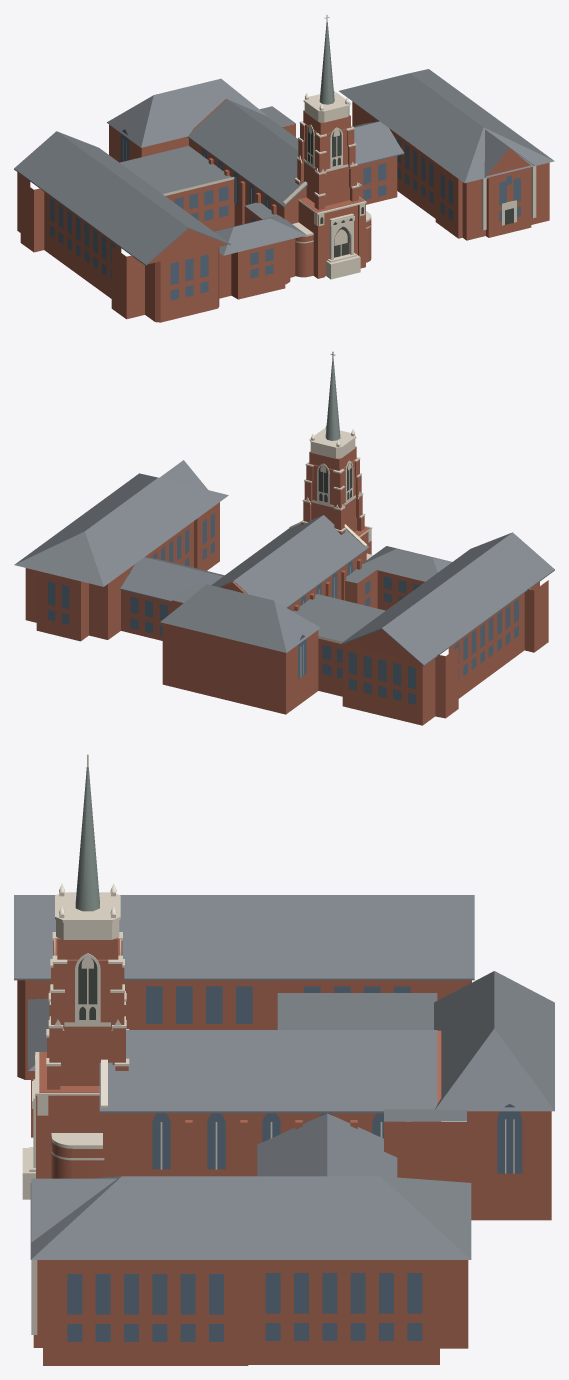
The model's file is ral-edenton-street-umc.glb.
3 views of the same model, one above another, from view 1: azimuth 30°, elevation 25°; view 2: azimuth 150°, elevation 25°; view 3: azimuth 270°, elevation 25° (orthographic). The views are drawn at different scales.
Parts seen in each view (by area): view 1: Edenton Street United Methodist Church; view 2: Edenton Street United Methodist Church; view 3: Edenton Street United Methodist Church.
Boxes of the visible parts, box(x1,y1,x2,y2) form: Edenton Street United Methodist Church: box(14, 15, 554, 322); Edenton Street United Methodist Church: box(14, 351, 554, 725); Edenton Street United Methodist Church: box(14, 754, 554, 1365).
Bounding box in the file's own units: 102 × 57.3 × 64.93.
